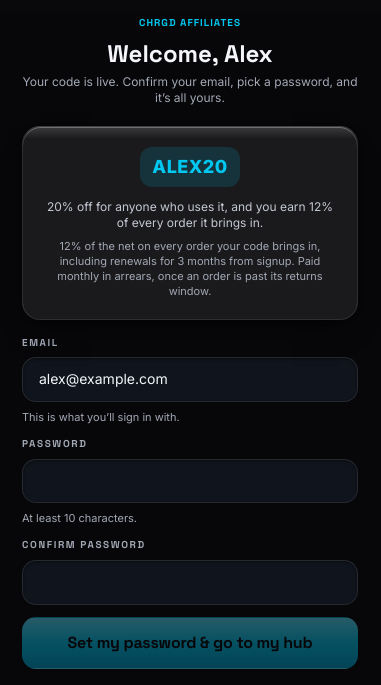
an affiliate opening their link › shows what the server said when the link is spent mid-signup
Expected: the text "ALEX20" is shown, [140, 147, 240, 187]
Type "a-long-enough-one" into the password field labelled "Password".
click(190, 481); type("a-long-enough-one")  # box [22, 459, 358, 504]
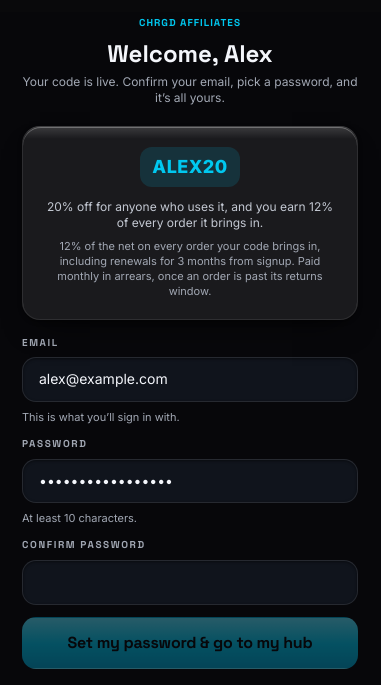
Type "a-long-enough-one" into the password field labelled "Confirm password".
click(190, 582); type("a-long-enough-one")  # box [22, 560, 358, 605]
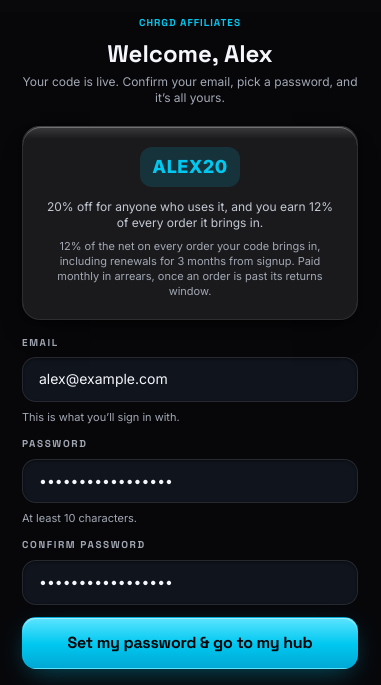
Click the button "Set my password & go to my hub".
click(190, 643)  # box [22, 617, 358, 669]
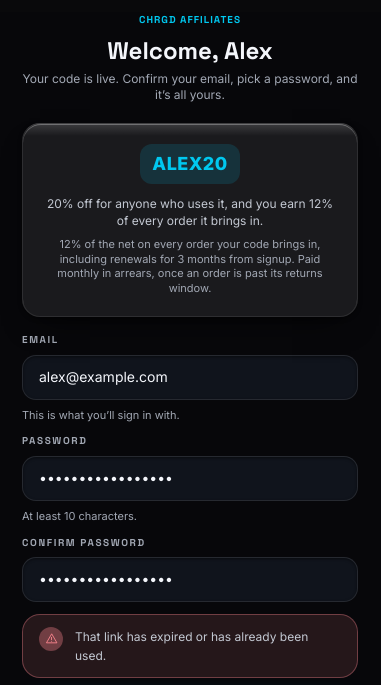
Now the text "That link has expired or has already been used." is shown, box [75, 627, 341, 665]
